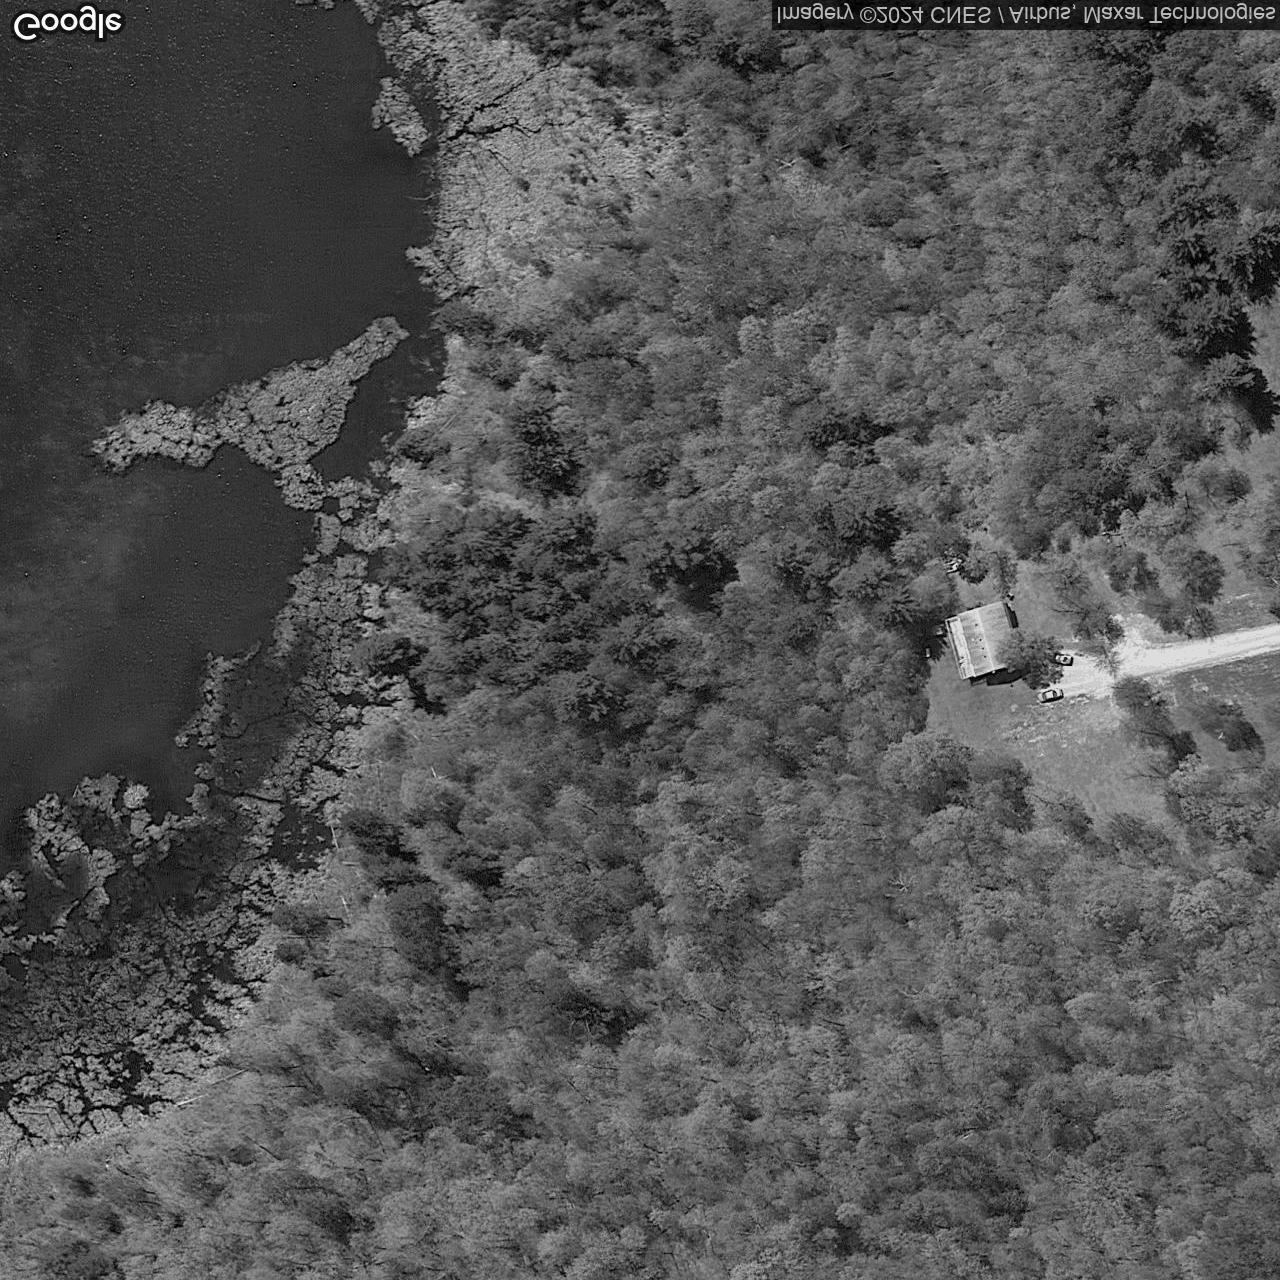House: (947, 600, 1023, 679)
Propane: (925, 645, 932, 660)
